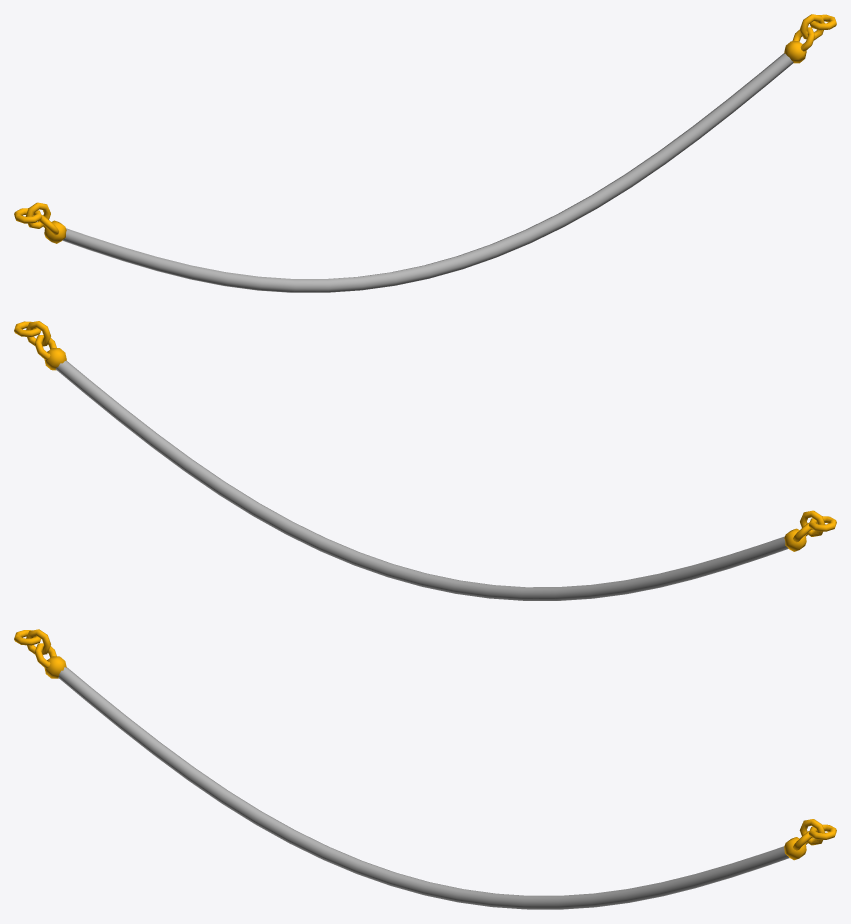
The model's file is barrier_rope_mesh.fbx.
3 views of the same model, one above another, from view 1: azimuth 30°, elevation 25°; view 2: azimuth 150°, elevation 25°; view 3: azimuth 330°, elevation 25° (orthographic).
Visible parts, largest first — view 1: barrier_rope:barrier_rope; view 2: barrier_rope:barrier_rope; view 3: barrier_rope:barrier_rope.
Boxes of the visible parts, bbox=[...] form: barrier_rope:barrier_rope: bbox=[14, 14, 836, 292]; barrier_rope:barrier_rope: bbox=[14, 321, 836, 600]; barrier_rope:barrier_rope: bbox=[14, 629, 836, 909].
Size of the model in its own units: 1.92 by 0.3832 by 0.0617.
